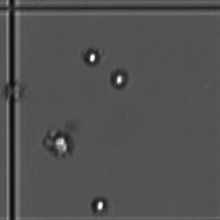Dead Cell: (3, 76, 29, 102)
Living Cell: (42, 126, 80, 164), (87, 189, 113, 215), (110, 67, 136, 93), (81, 46, 106, 71)
